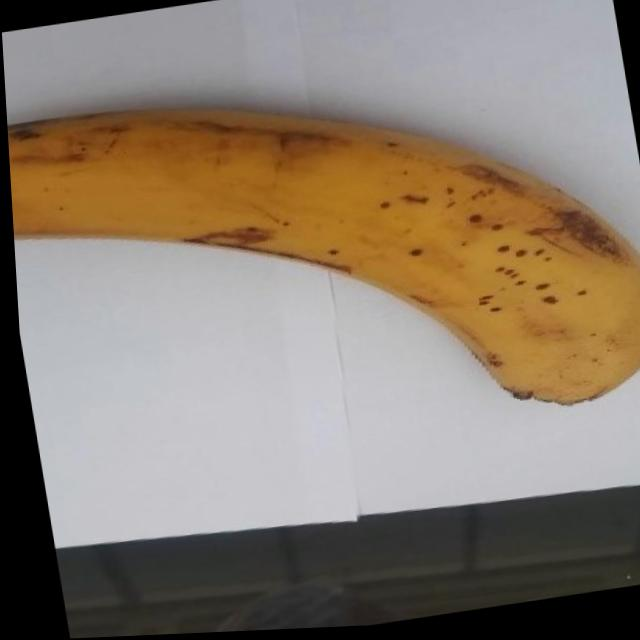Banana: (3, 38, 640, 488)
